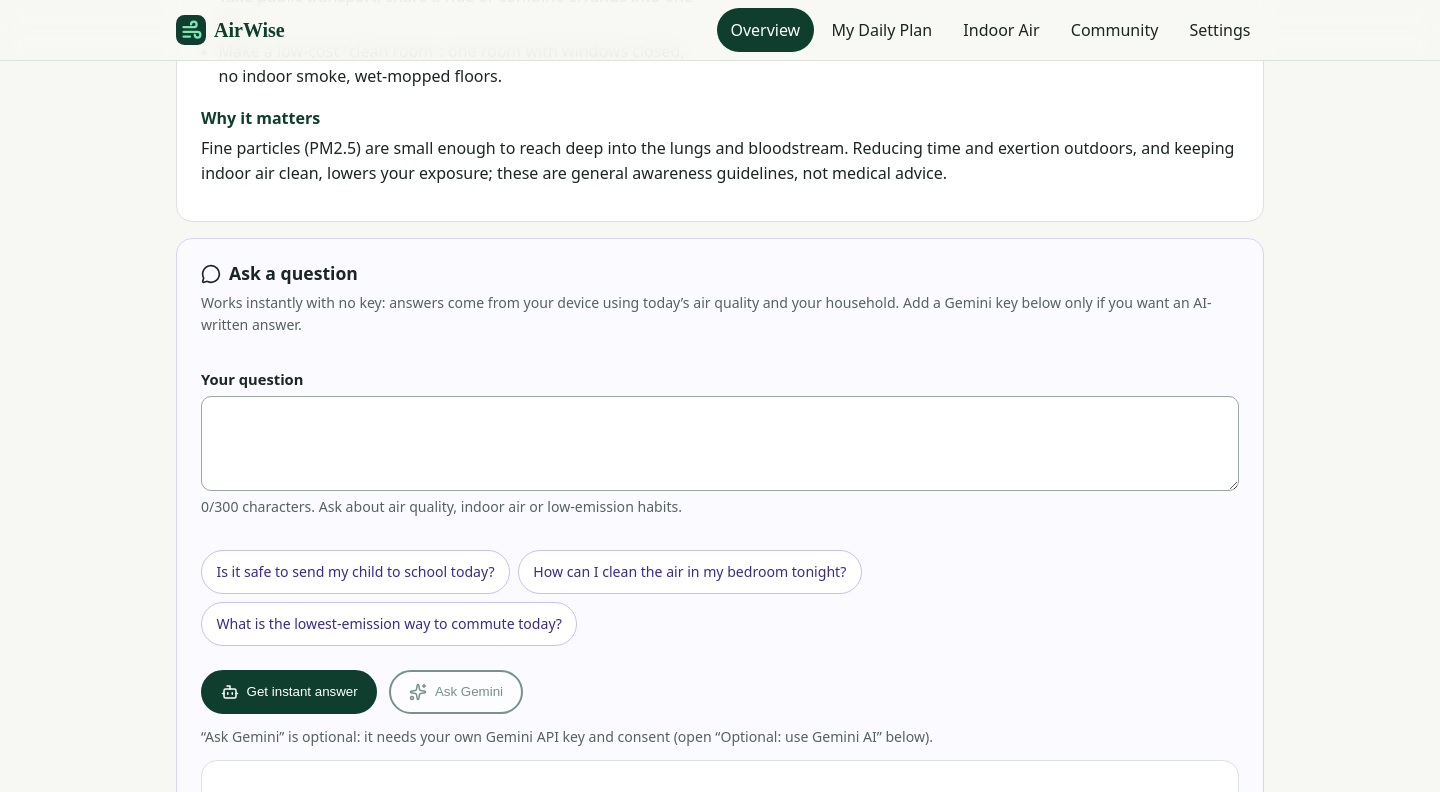
Test case: keyless chat › still blocks contact details without a key
(page scrolled)
Type "call me 9876543210 about air" into the text box labelled "Your question".
click(720, 444); type("call me 9876543210 about air")  # box left=201, top=396, right=1239, bottom=491
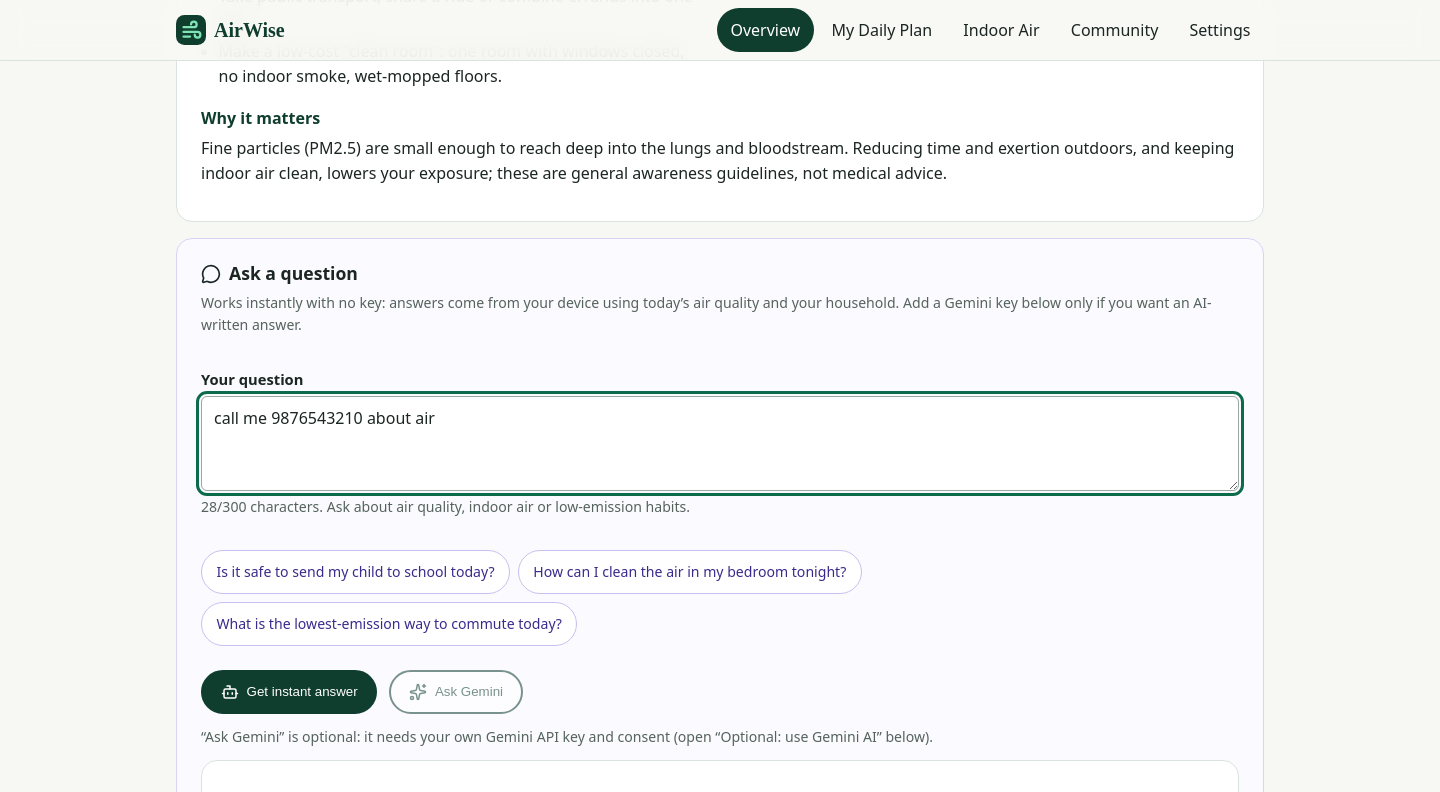
Click the button "Get instant answer".
click(289, 692)  # box left=201, top=670, right=377, bottom=714
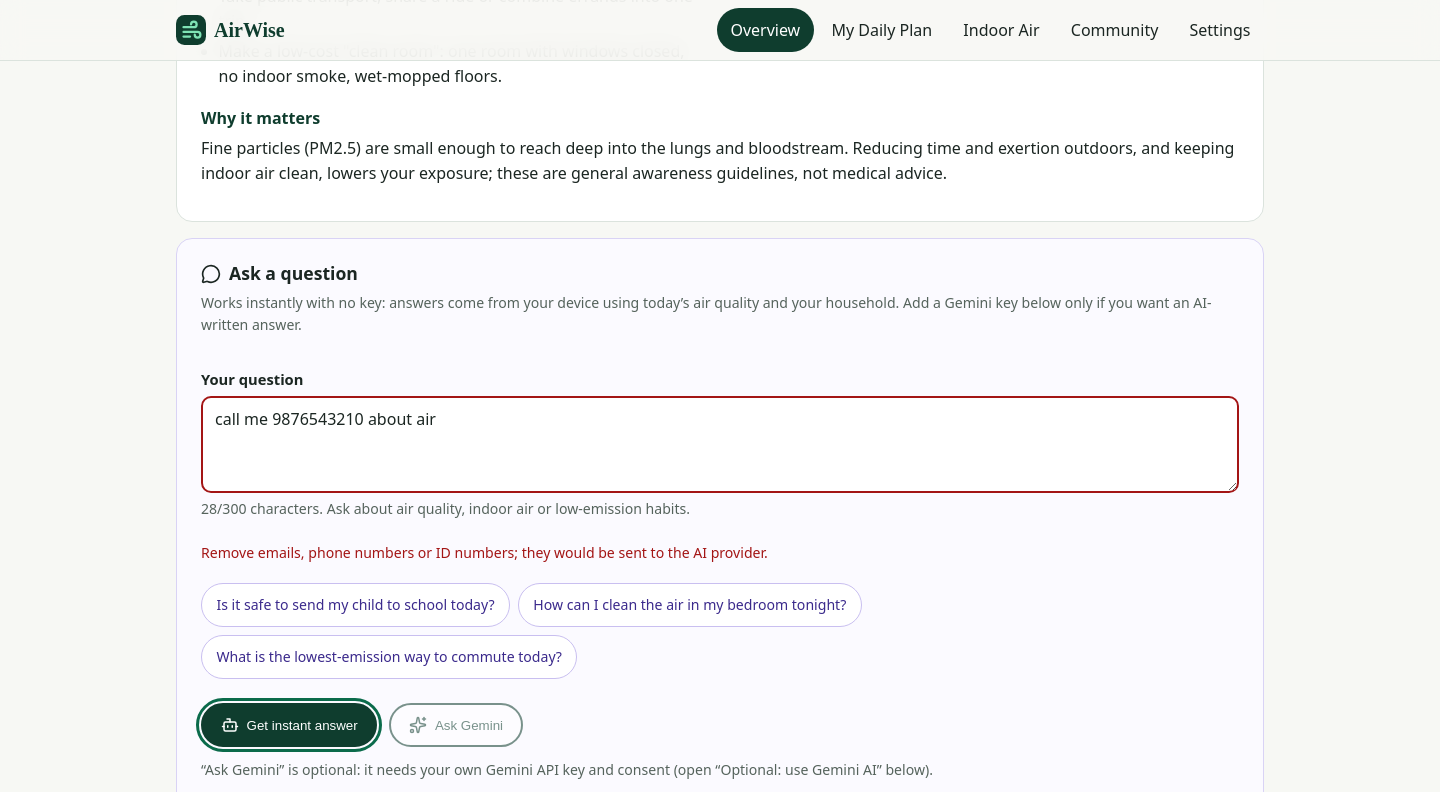
Now the text "Remove emails" is shown, box left=201, top=542, right=768, bottom=562
